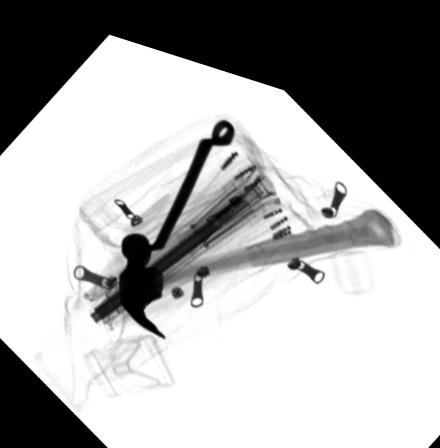Hammer: (115, 183, 405, 331)
Wrench: (128, 104, 234, 262)
